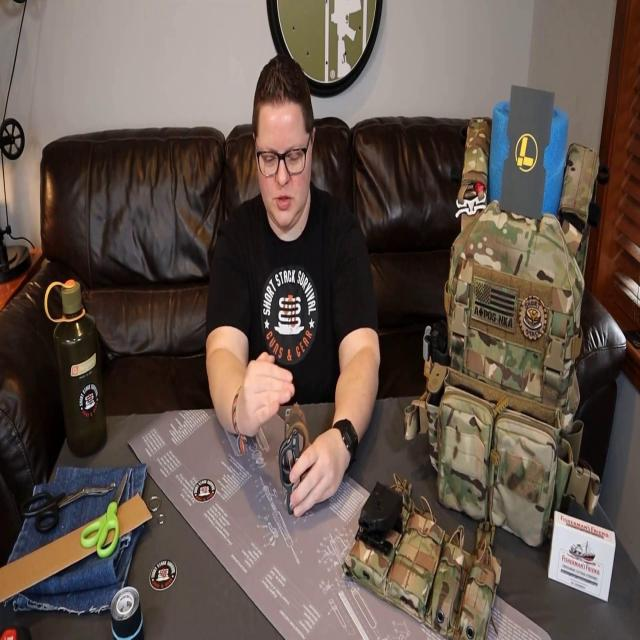scissor: (19, 481, 115, 534), (81, 471, 128, 558)
